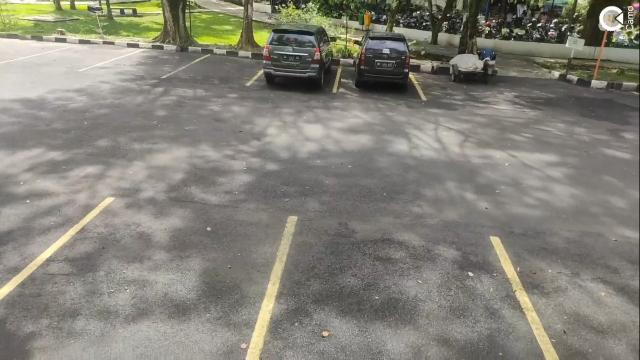empty: (275, 218, 525, 360), (59, 200, 273, 360), (186, 44, 258, 86), (36, 38, 114, 74), (112, 44, 184, 80)
occupied: (258, 31, 338, 94), (338, 40, 418, 96)
